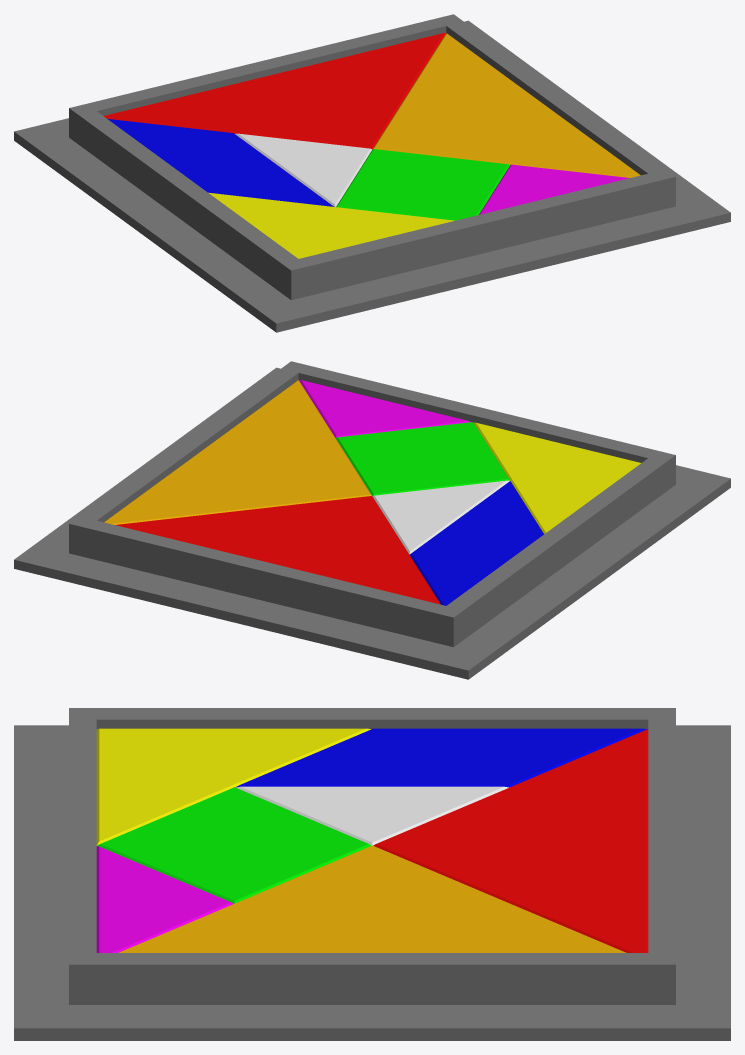
File: tangram.fbx
The picture shows the model from 3 angles, top to bottom: view 1: azimuth 30°, elevation 25°; view 2: azimuth 150°, elevation 25°; view 3: azimuth 270°, elevation 25°; orthographic projection. The views are drawn at different scales.
Parts seen in each view (by area): view 1: tray, piece7, piece1, piece5, piece4, piece2, piece3, piece6; view 2: tray, piece1, piece7, piece5, piece2, piece4, piece3, piece6; view 3: tray, piece7, piece1, piece2, piece4, piece5, piece3, piece6.
Part boxes in pixels (x1,y1,x2,y2): tray: (14, 14, 730, 332); piece7: (104, 33, 445, 149); piece1: (373, 33, 640, 177); piece5: (336, 149, 509, 220); piece4: (108, 119, 333, 206); piece2: (208, 192, 454, 258); piece3: (235, 133, 372, 206); piece6: (479, 164, 629, 214); tray: (14, 361, 730, 679); piece1: (104, 380, 371, 524); piece7: (115, 496, 440, 604); piece5: (335, 422, 509, 496); piece2: (474, 422, 640, 533); piece4: (409, 481, 543, 605); piece3: (372, 480, 509, 554); piece6: (299, 380, 471, 437); tray: (14, 708, 730, 1040); piece7: (373, 729, 648, 952); piece1: (118, 845, 626, 952); piece2: (96, 728, 370, 845); piece4: (235, 728, 647, 787); piece5: (97, 787, 371, 903); piece3: (236, 786, 508, 845); piece6: (96, 846, 233, 952).
Bounding box in the file's own units: 5.2 × 0.4244 × 5.2.
